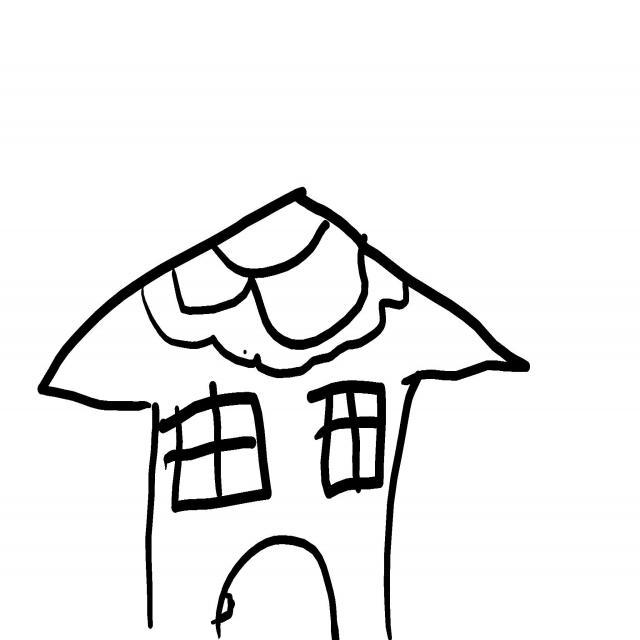door: (211, 537, 340, 640)
house: (33, 184, 536, 640)
wall: (148, 394, 412, 640)
window: (175, 386, 271, 500), (308, 382, 387, 498)
